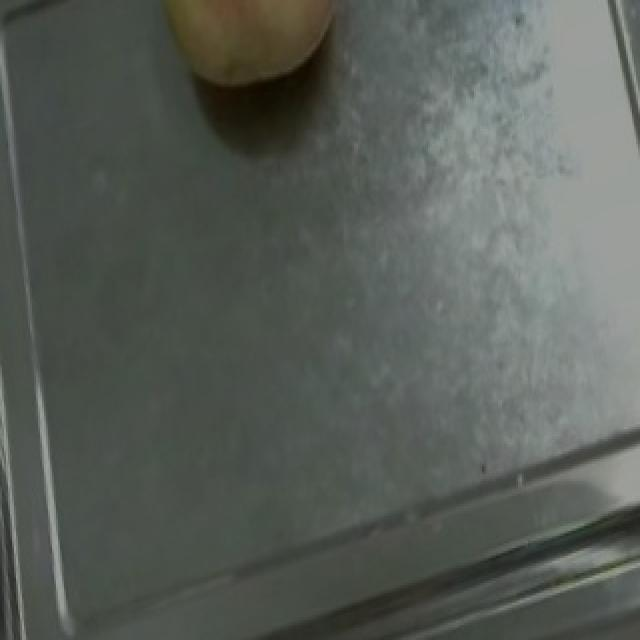Fruit: (134, 0, 370, 112)
